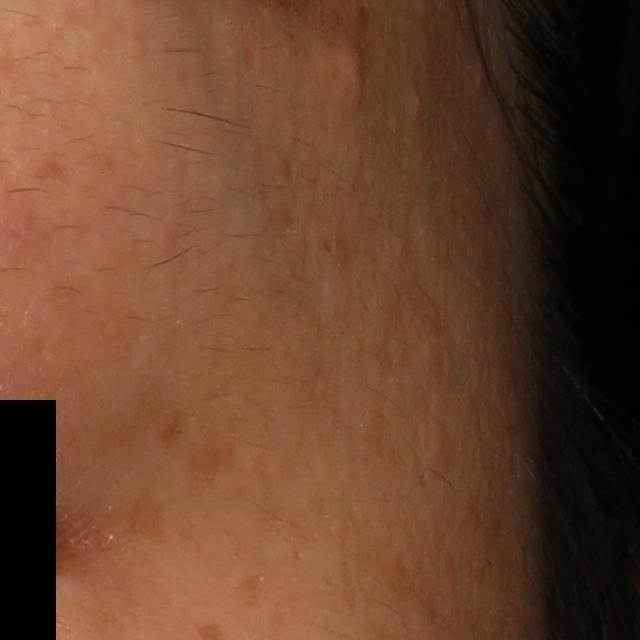melasma: (161, 396, 244, 480), (109, 493, 163, 547), (374, 540, 418, 601)
papule: (338, 43, 369, 95)
